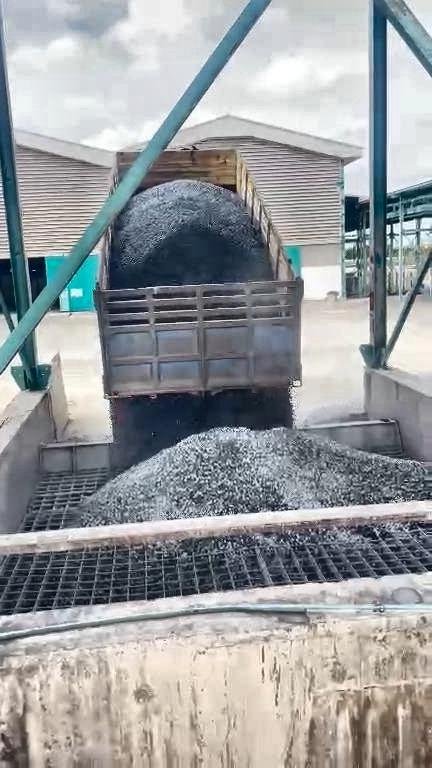gravel: (79, 428, 431, 523), (110, 180, 274, 288), (111, 389, 295, 466), (152, 524, 408, 559)
